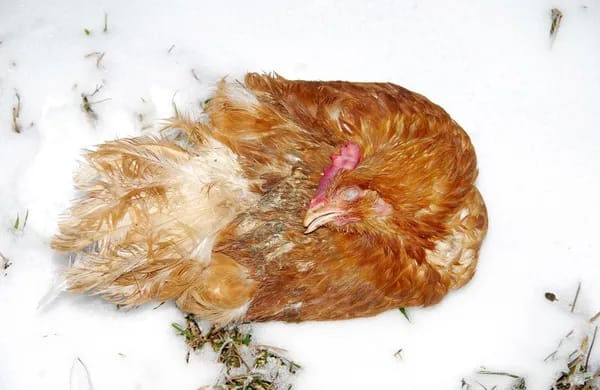Unhealthy: (40, 63, 496, 327)
